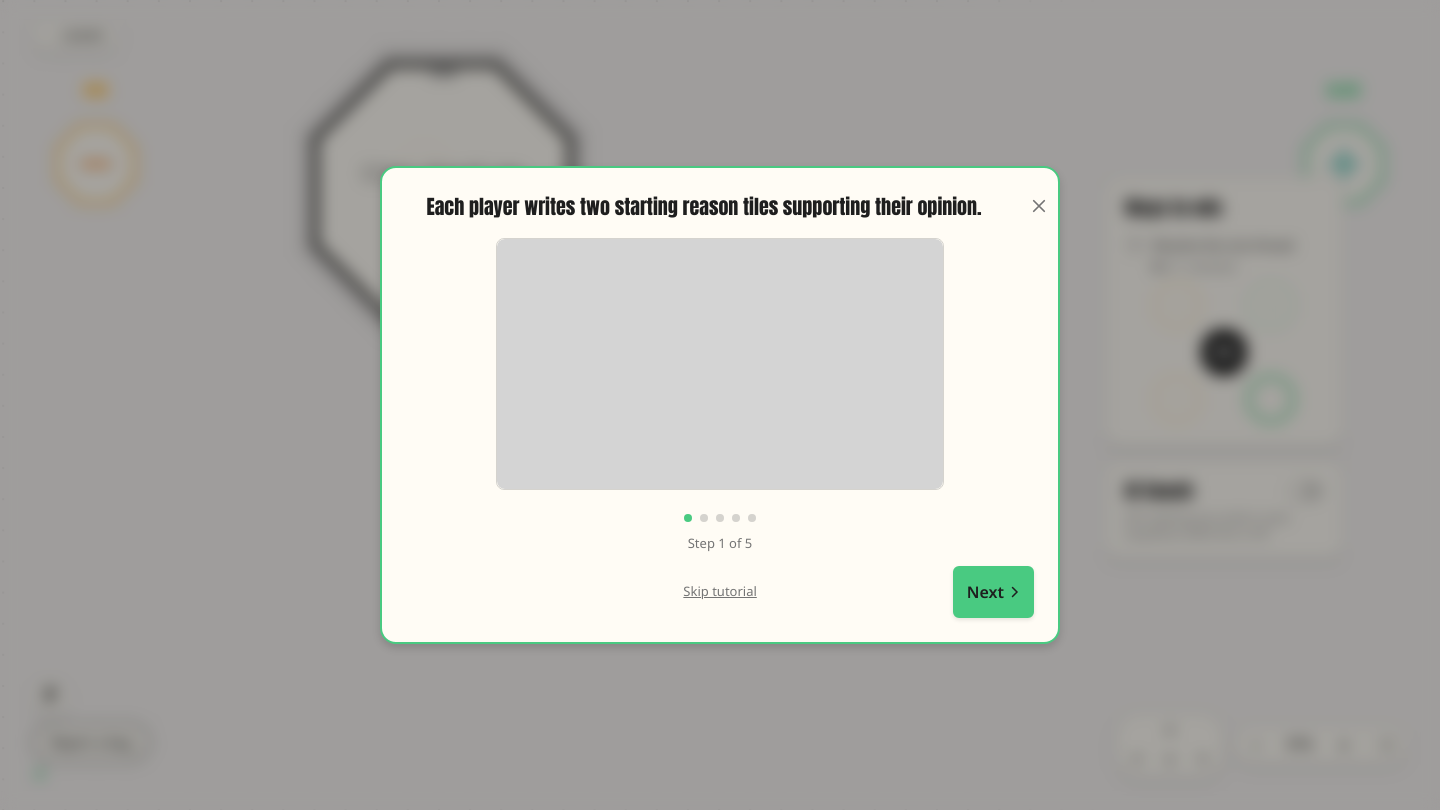
Test: LiveBoard: taking your own reason back off the board › still offers Remove once the only reply has itself been taken back
The width and height of the screenshot is (1440, 810).
Click the button "Skip tutorial": (720, 592) [683,582,757,602]
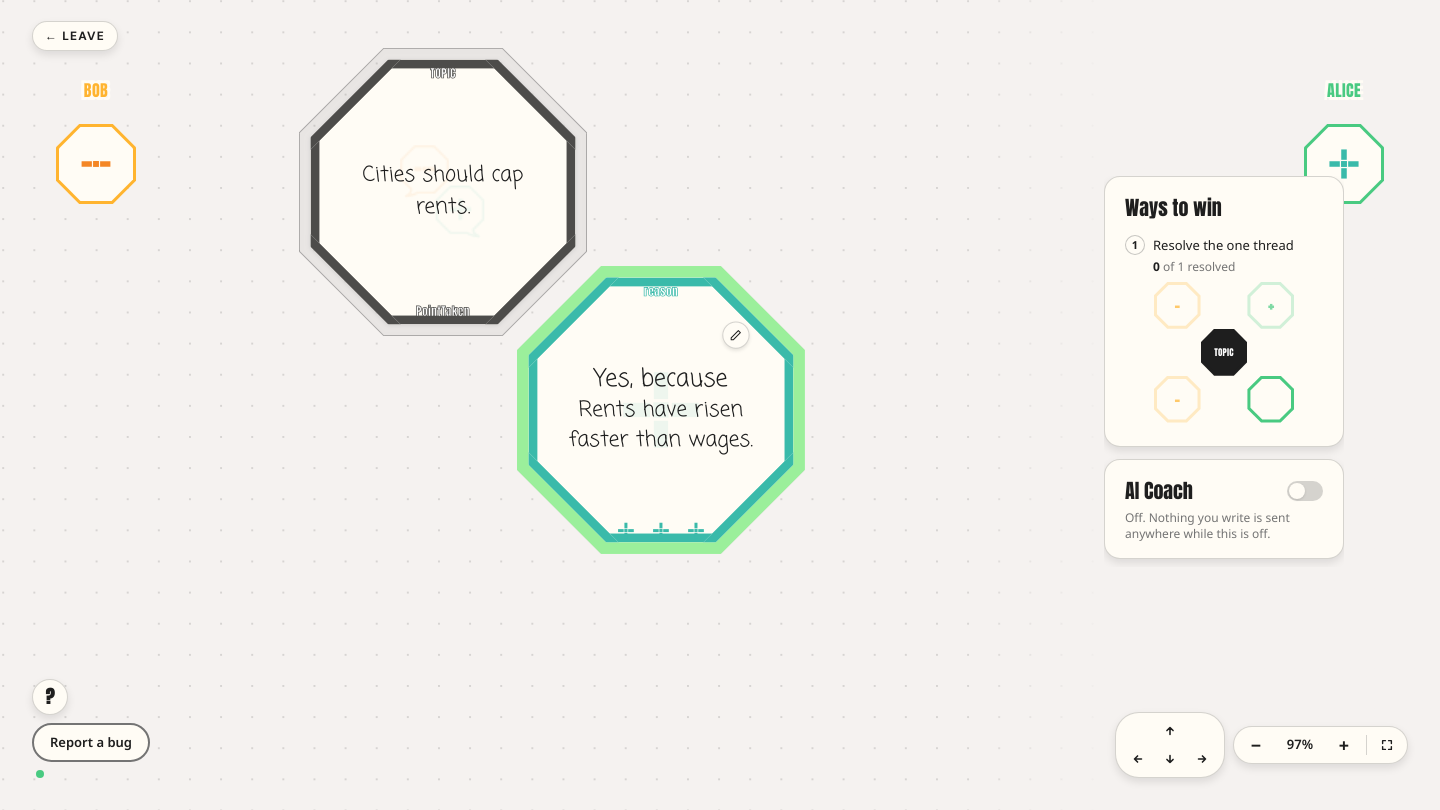
Click the element showing "reason Yes, because Rents have risen faster than wages.": (661, 410) [517,266,805,554]
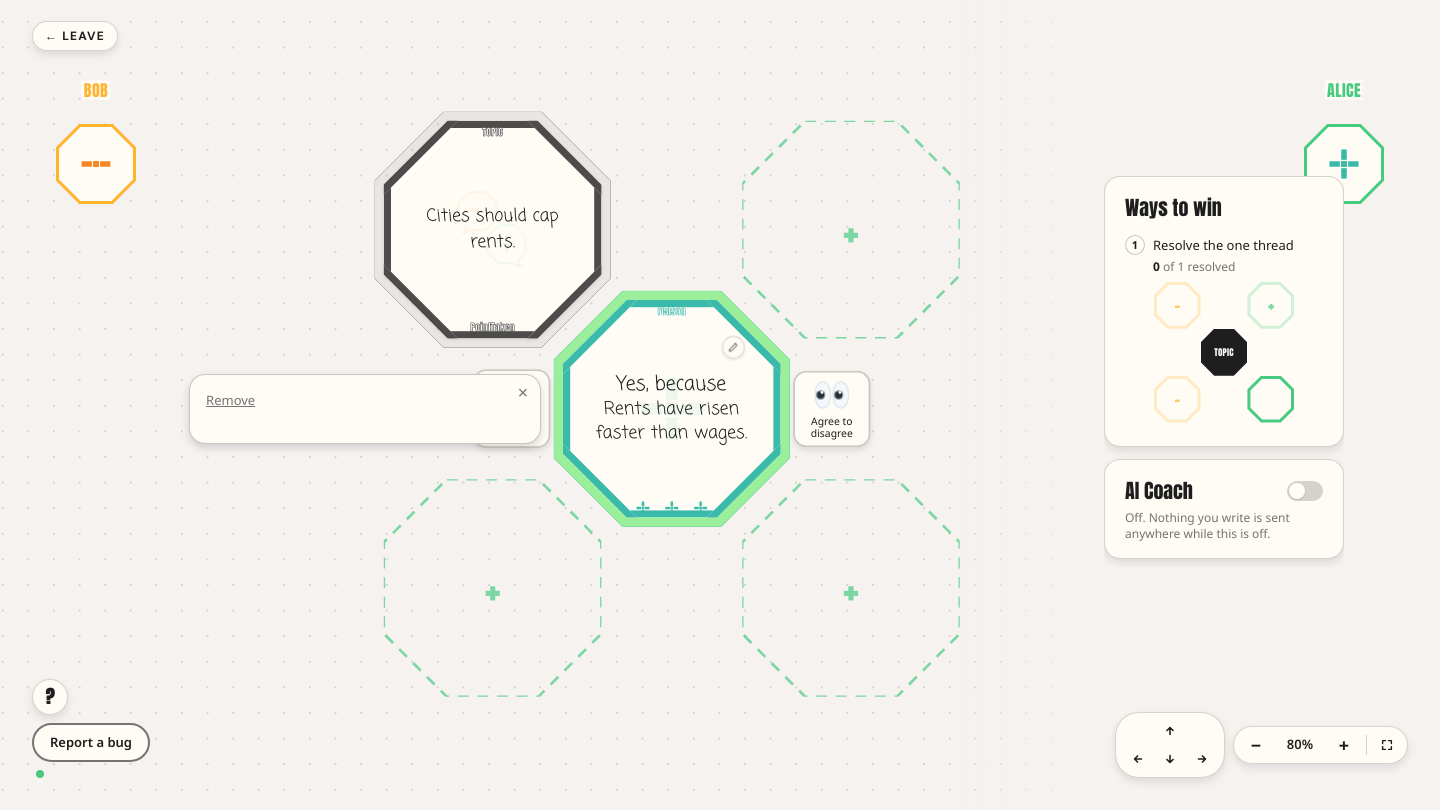
Expected: the button "Remove" is shown, [206,391,255,411]
